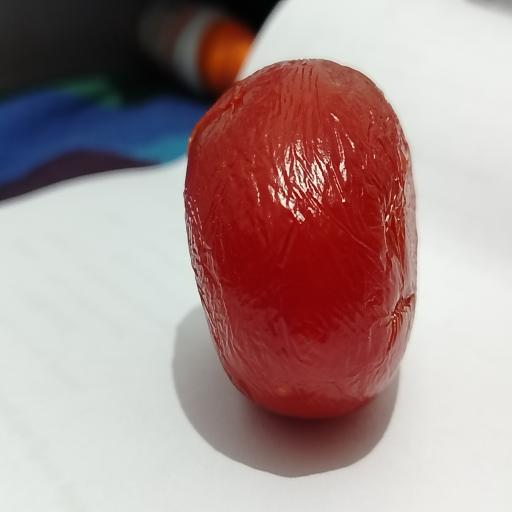spoiled: (184, 60, 417, 417)
